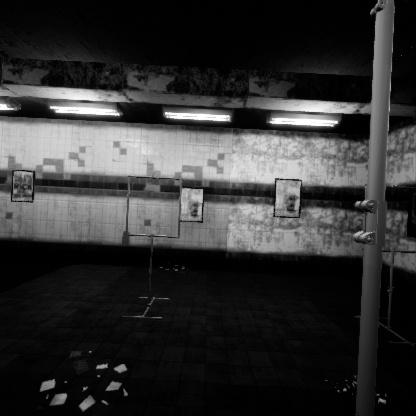gate: (125, 176, 187, 241), (362, 161, 416, 232)
